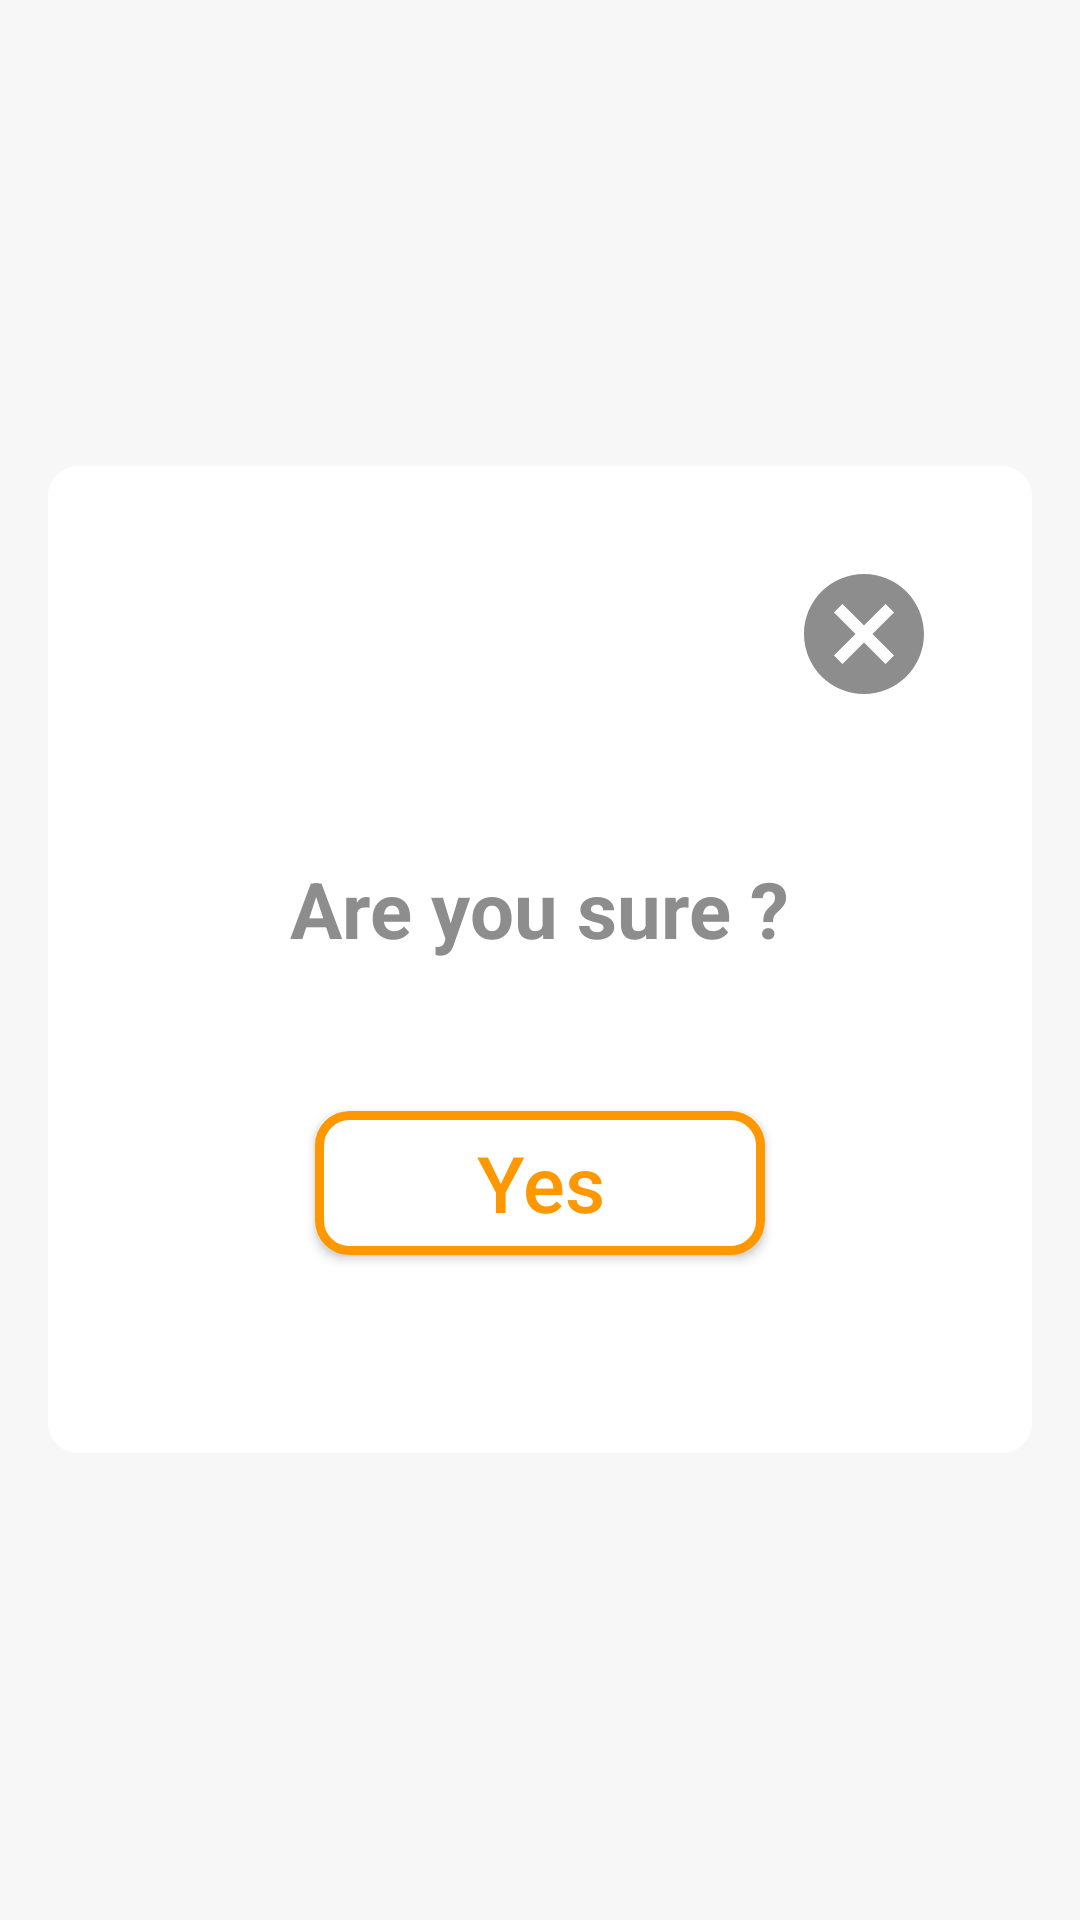

Locate icon controls on the screen. Image size 1080 × 1920, boxes as (x1,y1,x2,y2).
cancel: (804,574,924,694)
